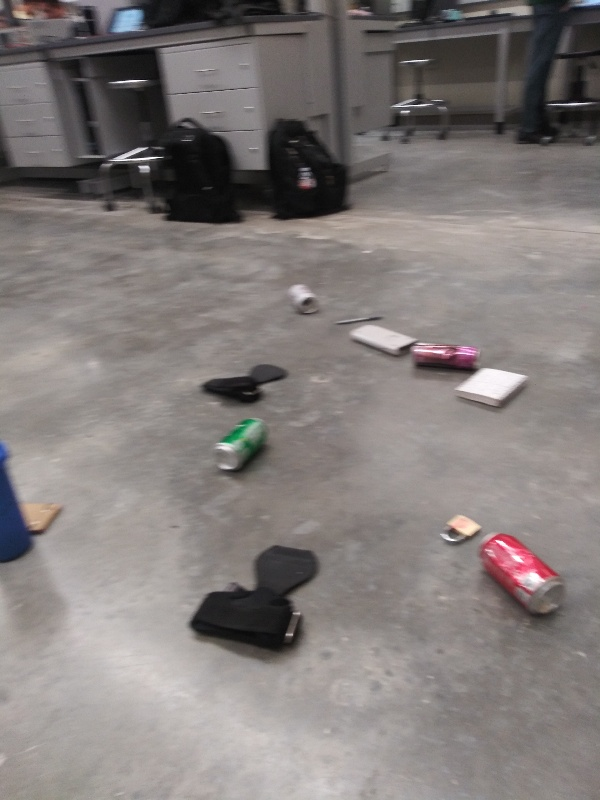can: (471, 526, 573, 623), (210, 414, 271, 476), (408, 338, 486, 378), (284, 280, 324, 320)
